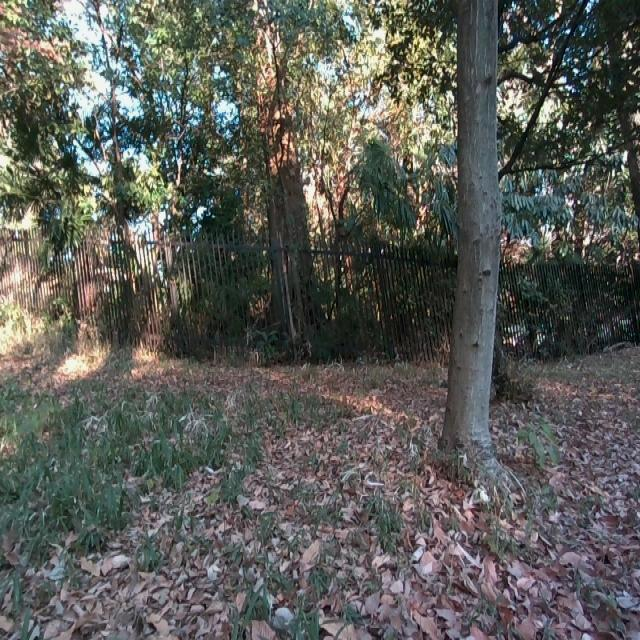artifact: (1, 232, 638, 367)
tree: (433, 6, 523, 464)
